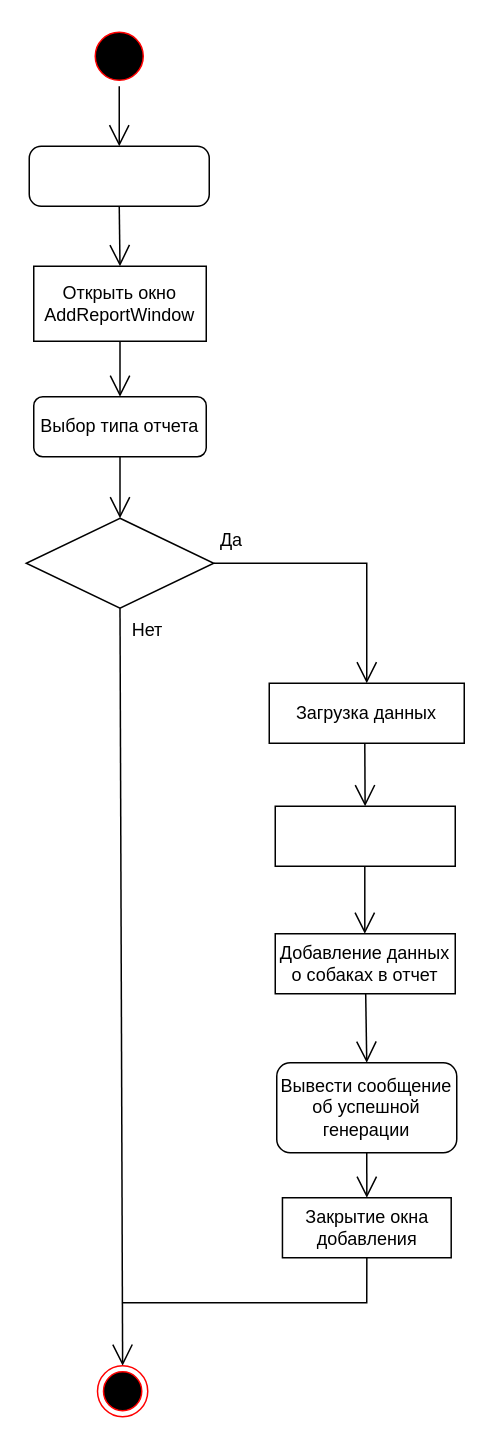
This 491x1443 diagram has some shape labels left out. The box of each missing label's shape, as (x1, y1, x2, y2) in pixels:
выбор сделан?: (25, 517, 214, 608)
Нажатие кнопки «Генерация отчета»: (28, 145, 209, 206)
Считывание jxml скелетов отчетов: (274, 805, 455, 866)
